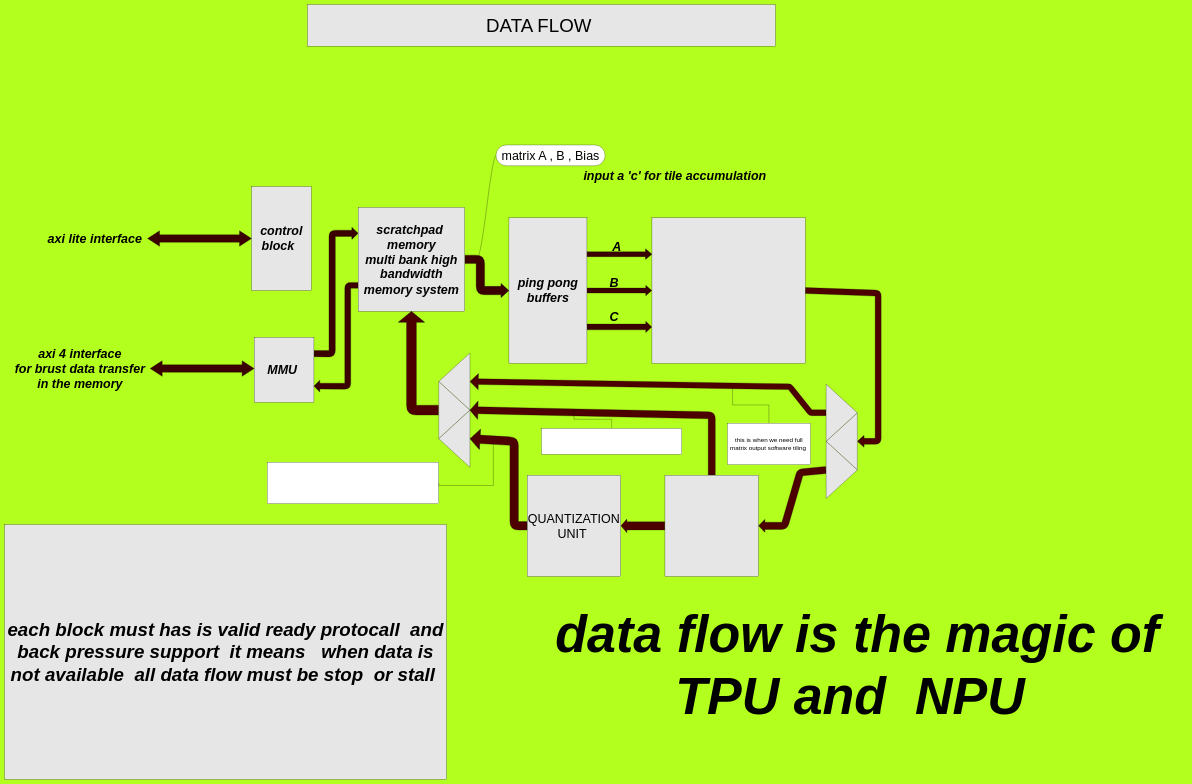
Some shapes in this 1192 by 784 pixel diagram are drawn without their labels. The shapes that lost their labels are listed below. From the top down, each one's box as (x1, y1, x2, y2) in pixels, then its label:
(652, 217, 805, 363): 16 BY 16 MAC
(541, 428, 682, 454): when we need FULL HIGH PRECISSION ACTIVATION
(267, 462, 439, 504): THIS IS QUANTIZED OUTPUT MOST OF THIS TIME WE NEED THIS
(665, 475, 759, 577): ACTIVATION UNIT
